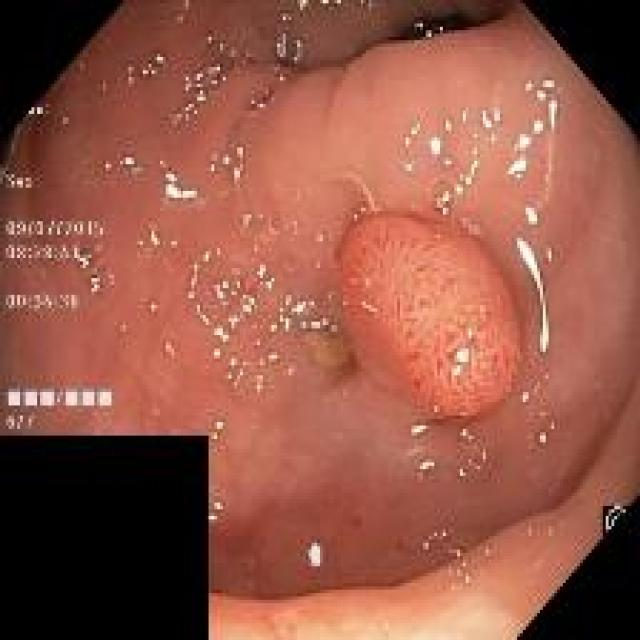Polyps: (338, 214, 521, 415)
